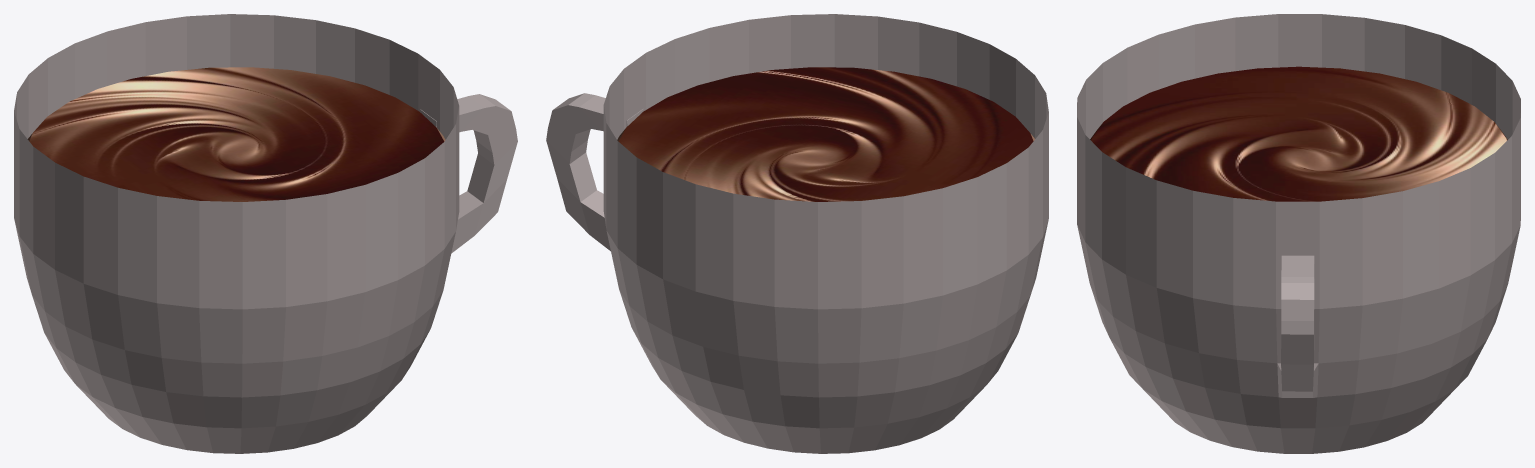
File: tazaChocolate.glb
3 renders of one model, left to right at view 1: azimuth 30°, elevation 25°; view 2: azimuth 150°, elevation 25°; view 3: azimuth 270°, elevation 25°, orthographic.
Visible parts, largest first — view 1: Circle, Cylinder; view 2: Circle, Cylinder; view 3: Circle, Cylinder.
Boxes of the visible parts, box(x1,y1,x2,y2) form: Circle: box(14, 14, 517, 453); Cylinder: box(27, 67, 445, 201); Circle: box(546, 14, 1048, 453); Cylinder: box(617, 67, 1034, 201); Circle: box(1077, 14, 1520, 453); Cylinder: box(1090, 66, 1507, 201).
Bounding box in the file's own units: 3.84 × 2.26 × 3.17.
3 materials, 2 textured.
